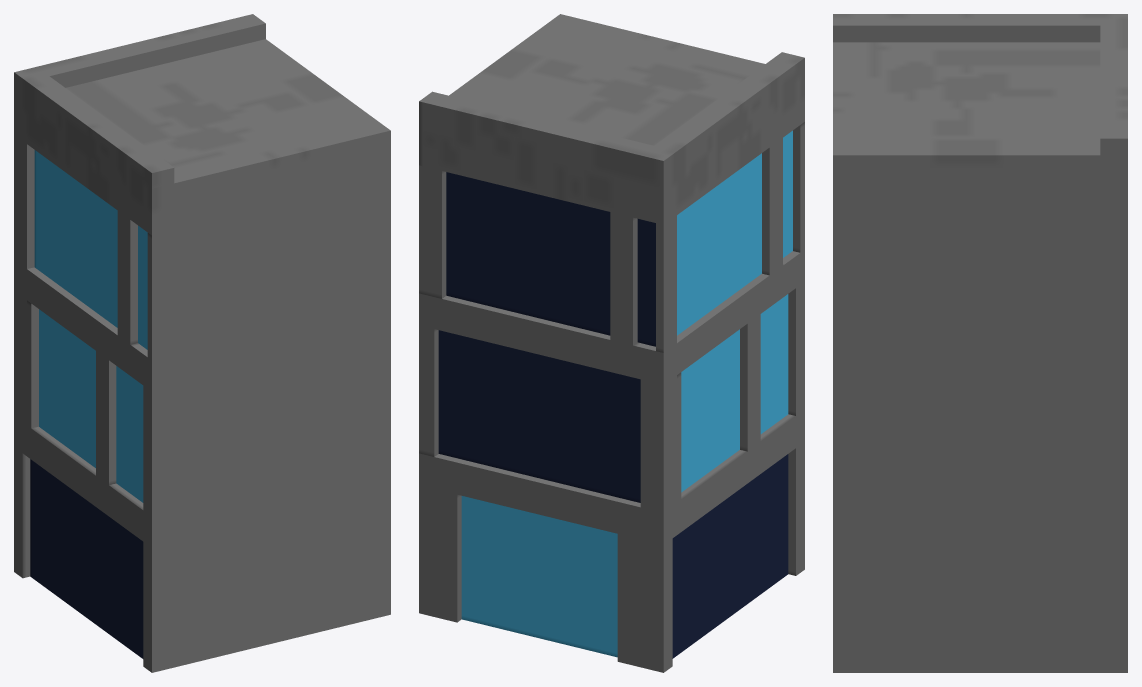
The model's file is B_m_GÓRA_CZ_BOKKKKKKKKKK.dae.
The picture shows the model from 3 angles, left to right: view 1: azimuth 30°, elevation 25°; view 2: azimuth 150°, elevation 25°; view 3: azimuth 270°, elevation 25°; orthographic projection. The views are drawn at different scales.
Parts seen in each view (by area): view 1: Content; view 2: Content; view 3: Content.
Part boxes in pixels (x1=…): Content: x1=14, y1=14, x2=390, y2=672; Content: x1=419, y1=14, x2=804, y2=672; Content: x1=833, y1=14, x2=1127, y2=672.
Size of the model in its own units: 32 by 64 by 32.
1 material, 1 textured.
